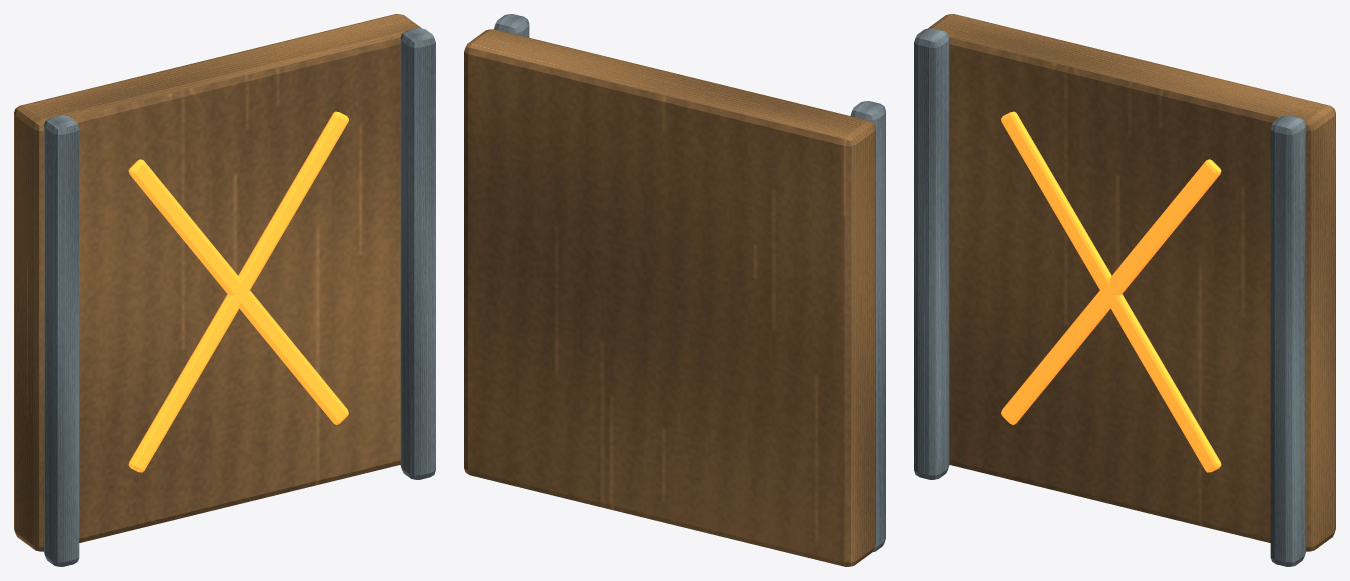
File: breakable_seal.glb
The picture shows the model from 3 angles, left to right: view 1: azimuth 30°, elevation 25°; view 2: azimuth 150°, elevation 25°; view 3: azimuth 330°, elevation 25°; orthographic projection.
Parts seen in each view (by area): view 1: breakable_seal; view 2: breakable_seal; view 3: breakable_seal.
Part boxes in pixels (x1=…): breakable_seal: x1=14, y1=14, x2=435, y2=566; breakable_seal: x1=464, y1=14, x2=885, y2=566; breakable_seal: x1=914, y1=14, x2=1335, y2=566.
Bounding box in the file's own units: 1.8 × 1.95 × 0.335.
3 materials, 2 textured.
